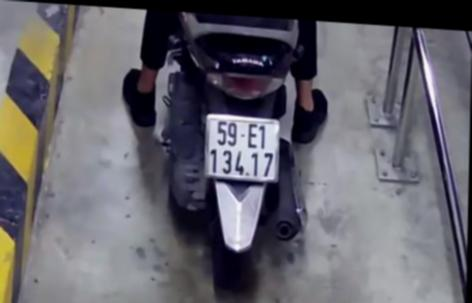License_Plate: (197, 109, 288, 188)
